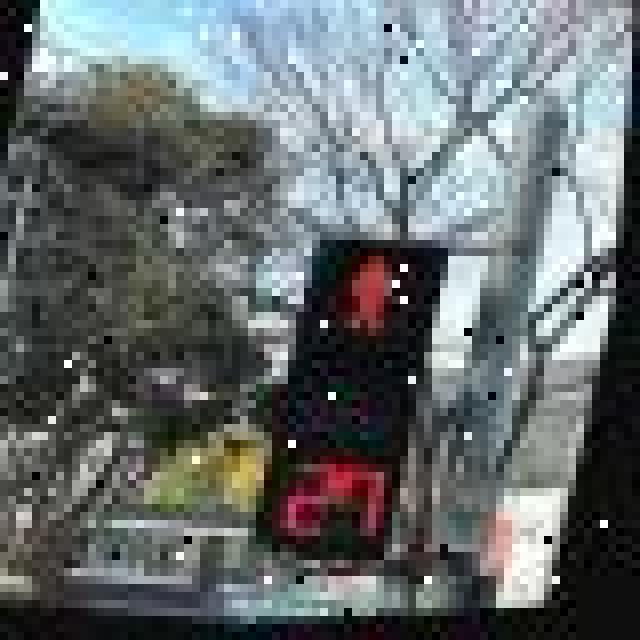redlight: (296, 218, 440, 464)
